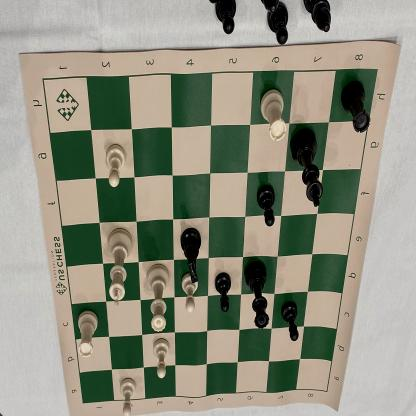black-king: (288, 124, 324, 212)
black-knight: (175, 224, 206, 283)
black-pawn: (256, 182, 277, 230), (280, 300, 300, 345), (212, 270, 232, 314)
black-queen: (242, 260, 270, 331)
black-rook: (339, 78, 369, 136)
white-king: (105, 226, 134, 311)
white-pawn: (101, 140, 128, 192), (177, 270, 200, 316), (150, 337, 171, 382), (116, 374, 136, 416)
white-queen: (144, 259, 172, 336)
white-rook: (258, 83, 289, 147), (74, 307, 100, 360)
